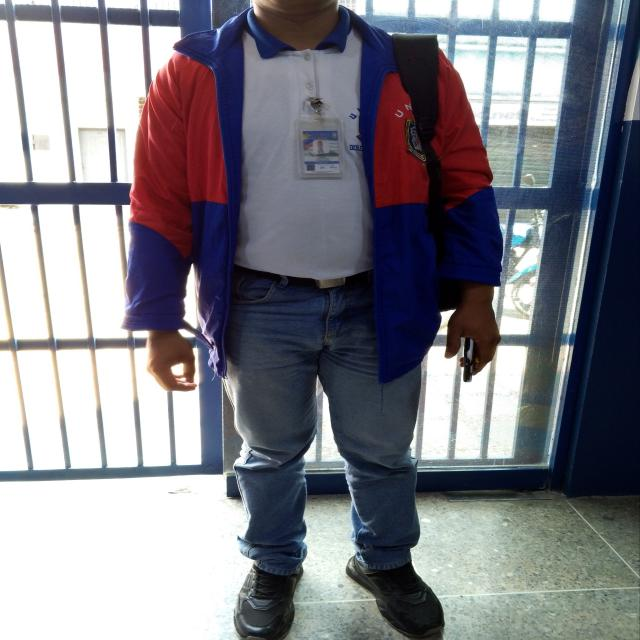carnet: (302, 130, 341, 174)
chaqueta_unefa: (120, 4, 504, 383)
